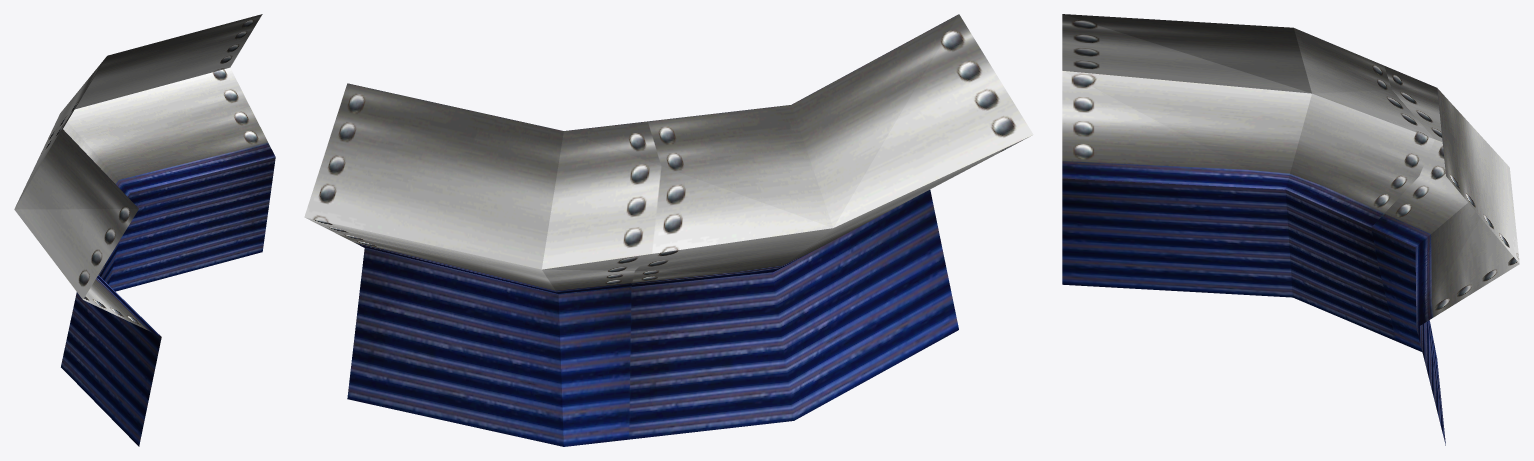
Rendered from W_A_Standardwand_RundungGroß_Ministerium_2503.glb.
3 views of the same model, side by side, from view 1: azimuth 30°, elevation 25°; view 2: azimuth 150°, elevation 25°; view 3: azimuth 270°, elevation 25° (orthographic). The views are drawn at different scales.
Parts seen in each view (by area): view 1: pPlaneShape11w2; view 2: pPlaneShape11w2; view 3: pPlaneShape11w2.
Boxes of the visible parts, bbox=[...] form: pPlaneShape11w2: bbox=[14, 14, 275, 446]; pPlaneShape11w2: bbox=[304, 14, 1033, 446]; pPlaneShape11w2: bbox=[1062, 14, 1519, 445].
Bounding box in the file's own units: 0.596 × 0.3891 × 0.596.
1 material, 1 textured.
